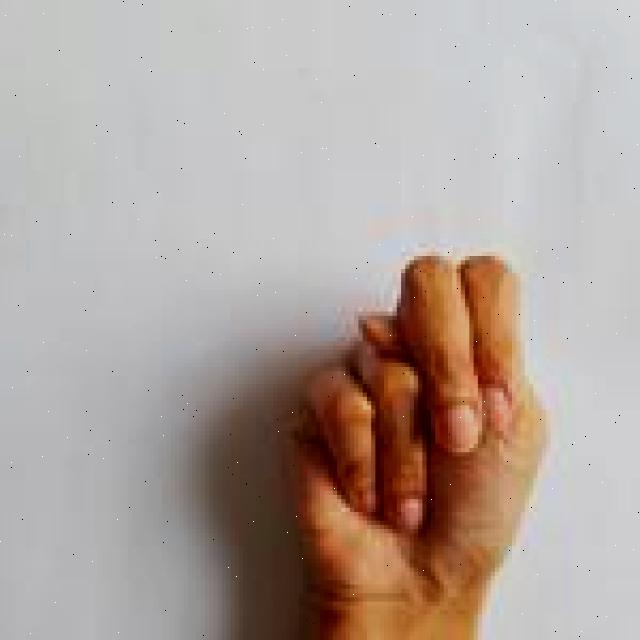N: (276, 245, 551, 640)
